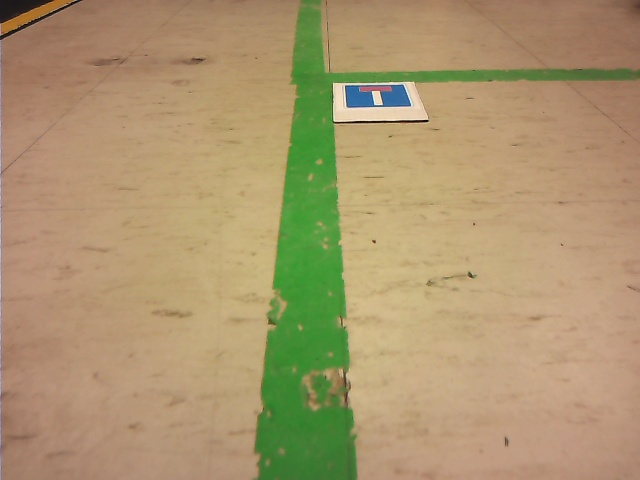DEAD END: (343, 82, 415, 109)
